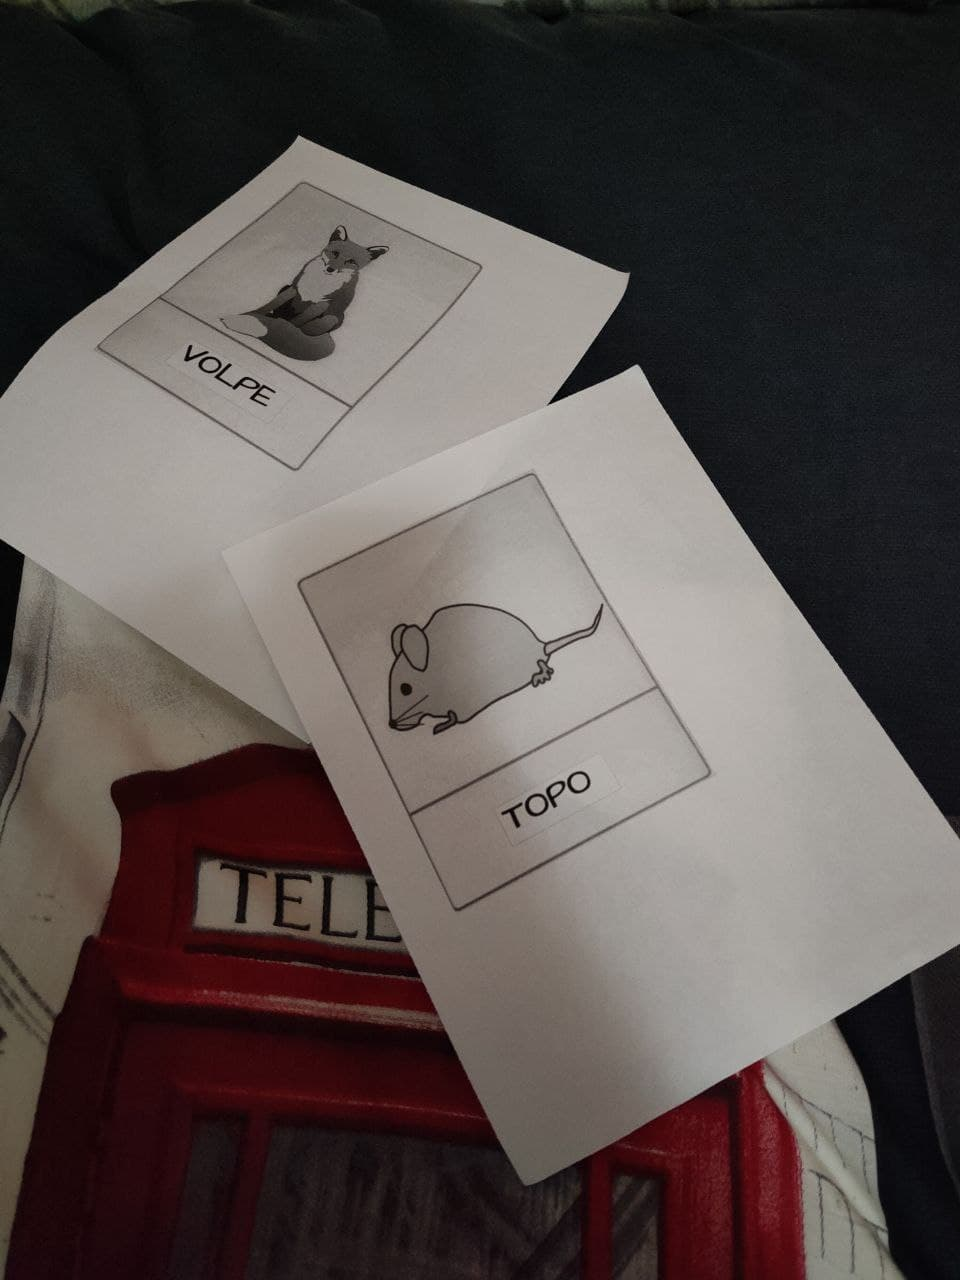topo: (291, 536, 691, 868)
volpe: (155, 207, 401, 457)
